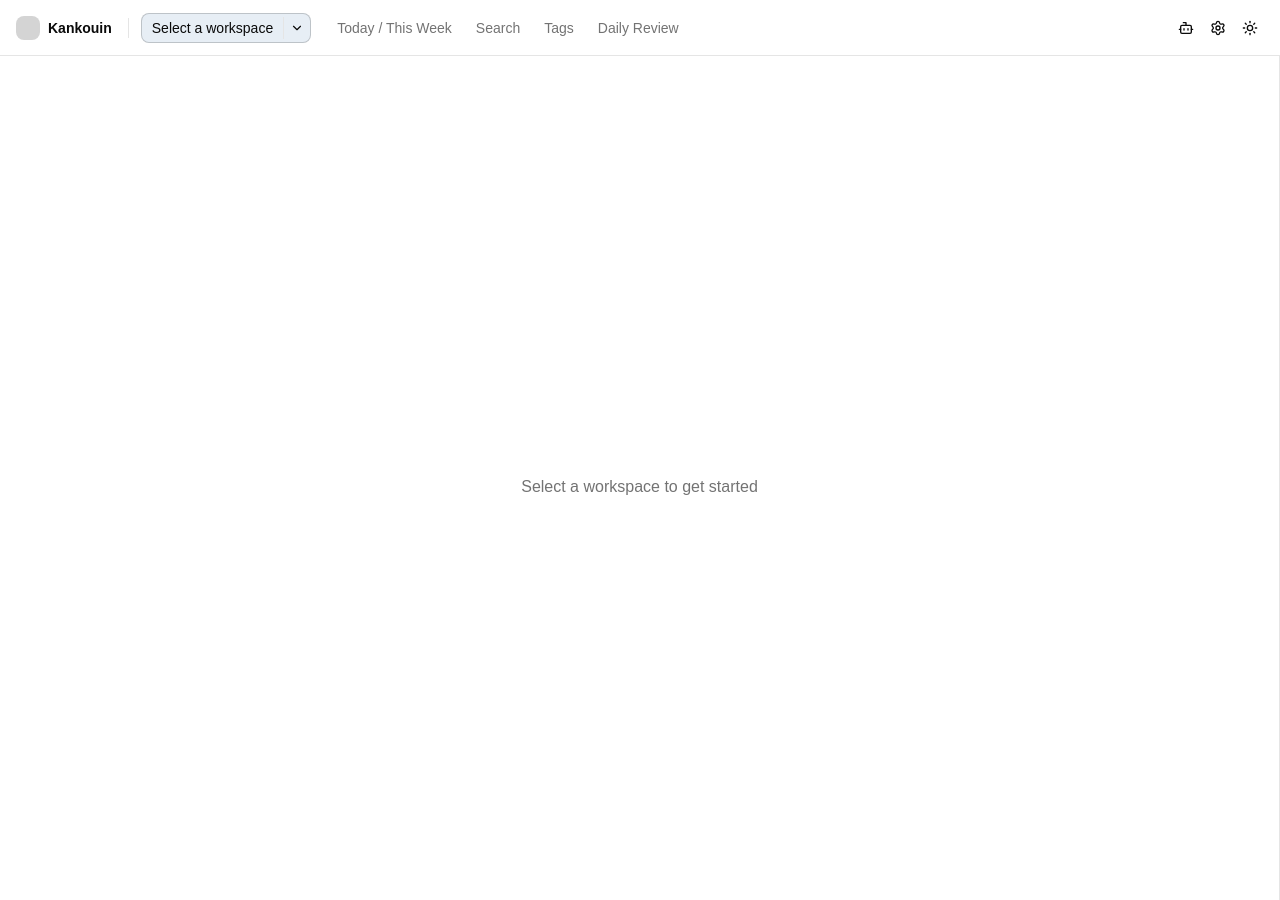
Test: App view navigation › switching to the Tags nav entry shows TagsView and hides the workspace pane
Check: the text "Select a workspace to get started" is shown, box [521,475,758,499]
Click the button "Tags".
click(559, 28)  # box [534,12,584,44]
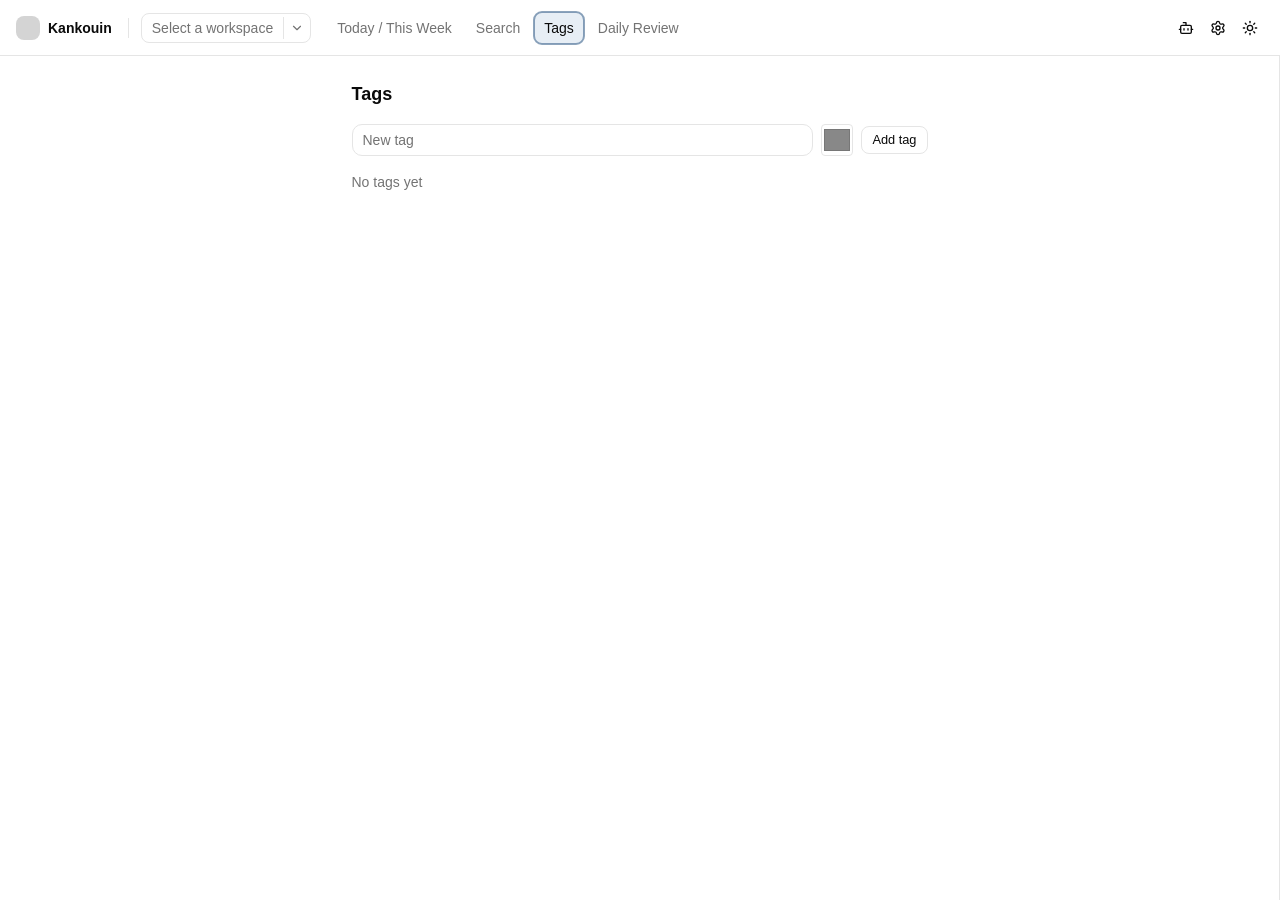
Check: the heading "Tags" is shown, box [352,84,392,104]
Check: the text "Select a workspace to get started" is gone
